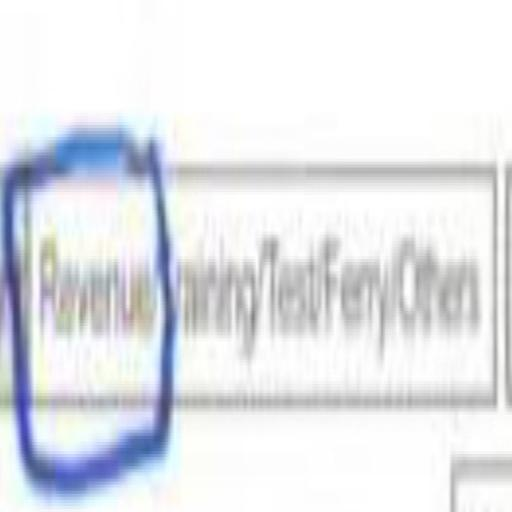check: (28, 113, 159, 512)
